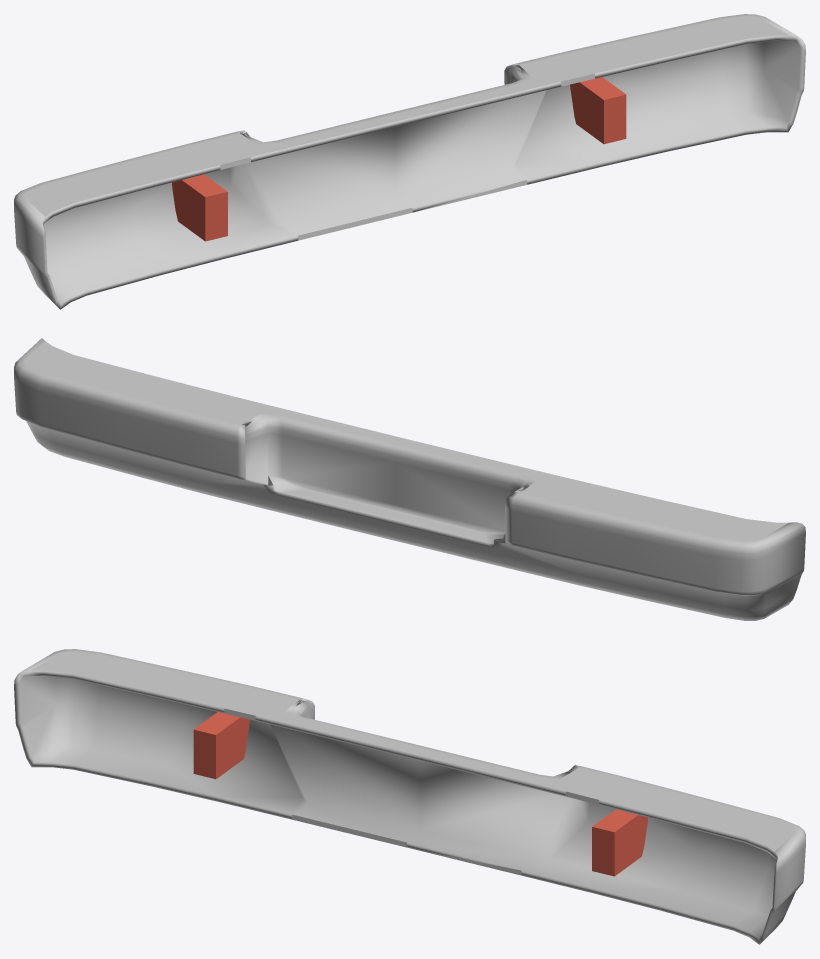
The model's file is van_bumper_R_cn.dae.
3 views of the same model, one above another, from view 1: azimuth 30°, elevation 25°; view 2: azimuth 150°, elevation 25°; view 3: azimuth 330°, elevation 25° (orthographic).
Visible parts, largest first — view 1: van_bumper_R_cn1; view 2: van_bumper_R_cn1; view 3: van_bumper_R_cn1.
Part boxes in pixels (x1,y1,x2,y2): van_bumper_R_cn1: [14, 14, 805, 309]; van_bumper_R_cn1: [14, 338, 805, 620]; van_bumper_R_cn1: [14, 649, 805, 944].
Size of the model in its own units: 1.99 by 0.2269 by 0.2229.
